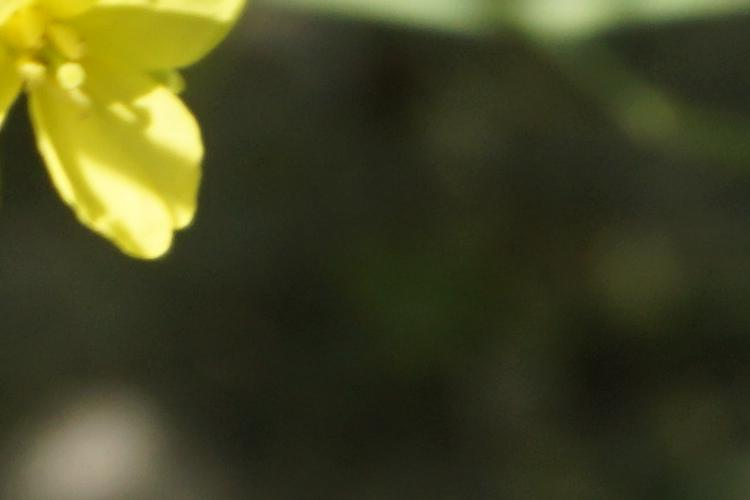yellow: (1, 1, 249, 264)
